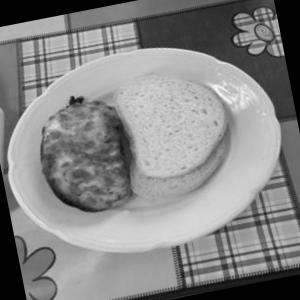bread: (110, 45, 246, 215)
cheese_sandwich: (28, 81, 154, 229)
